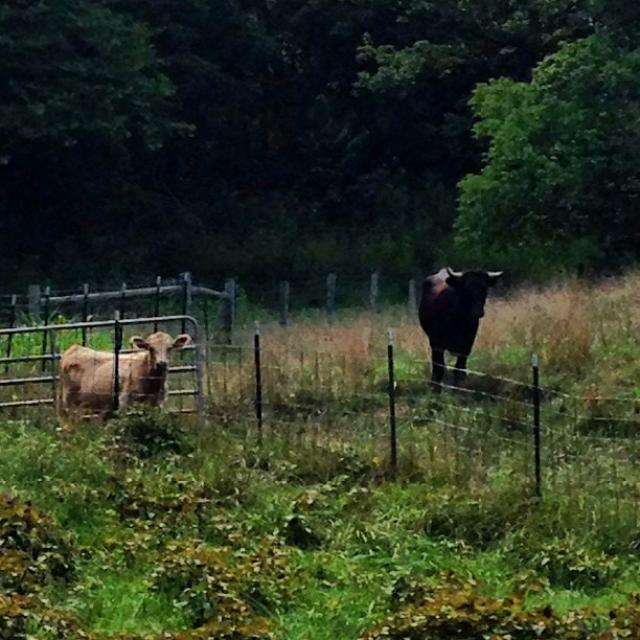cow: (416, 265, 501, 392), (65, 334, 192, 416)
